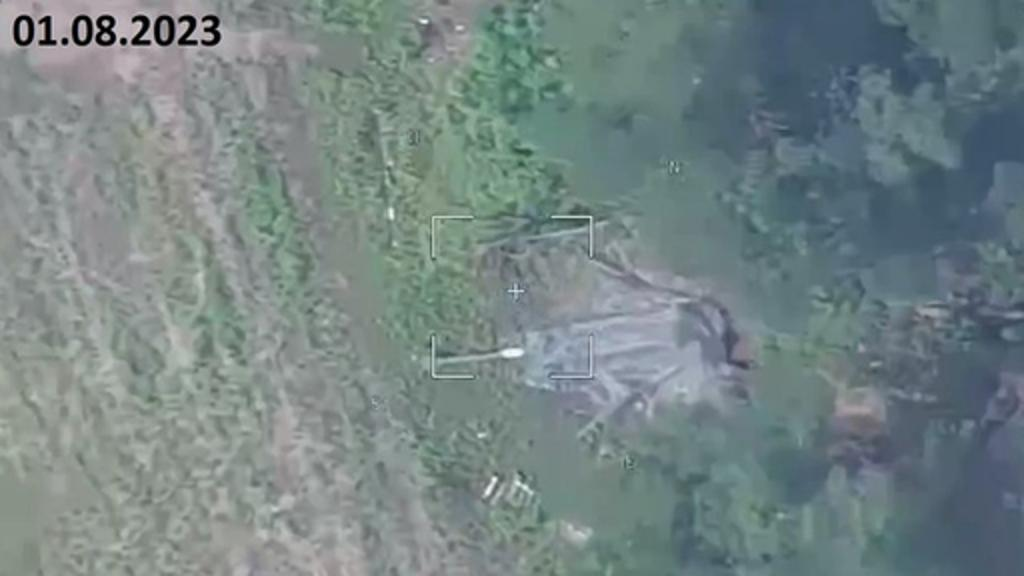ART: (412, 262, 736, 440)
